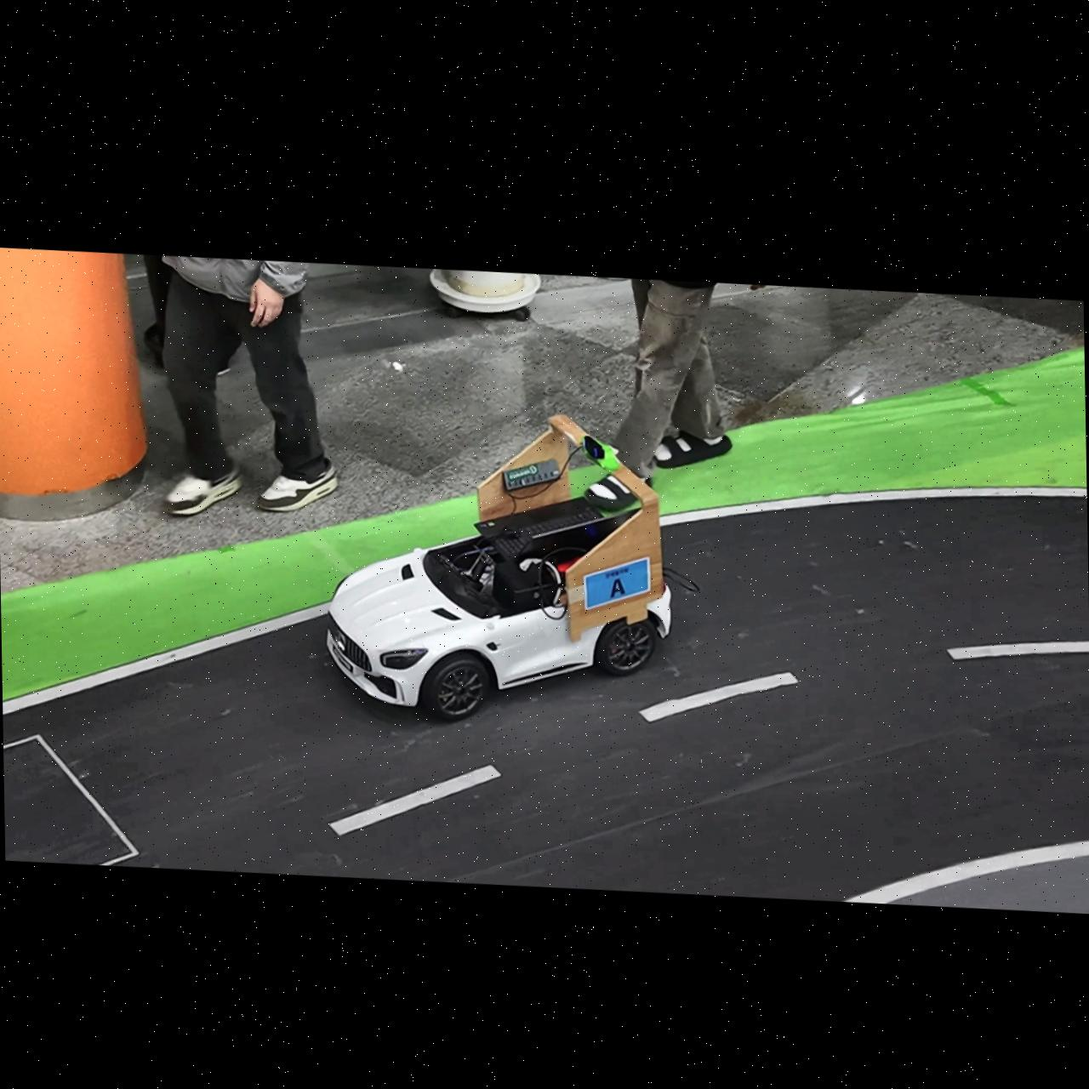broken_line: (329, 766, 500, 835), (640, 672, 800, 723), (946, 641, 1089, 660)
